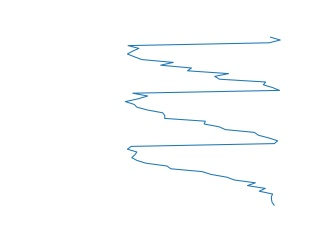distributaryMouthBar: (124, 34, 284, 207)
